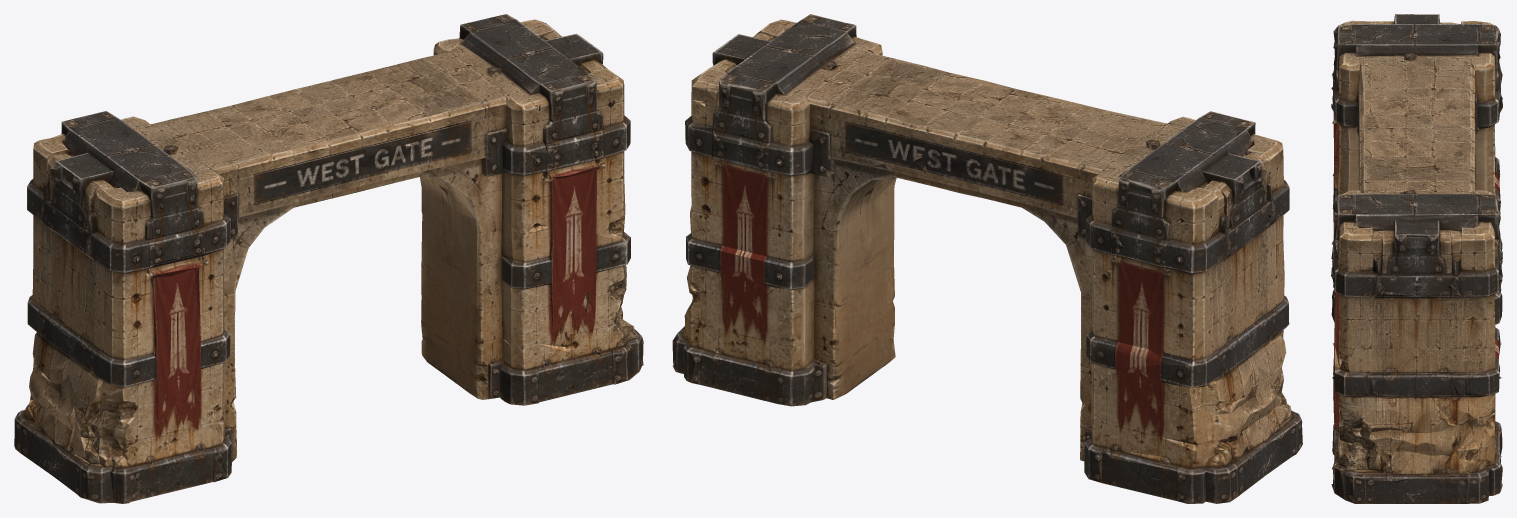
Rendered from gate.glb.
3 views of the same model, side by side, from view 1: azimuth 30°, elevation 25°; view 2: azimuth 150°, elevation 25°; view 3: azimuth 270°, elevation 25° (orthographic). The views are drawn at different scales.
Size of the model in its own units: 1.9 by 0.9979 by 0.5822.
1 material, 1 textured.
